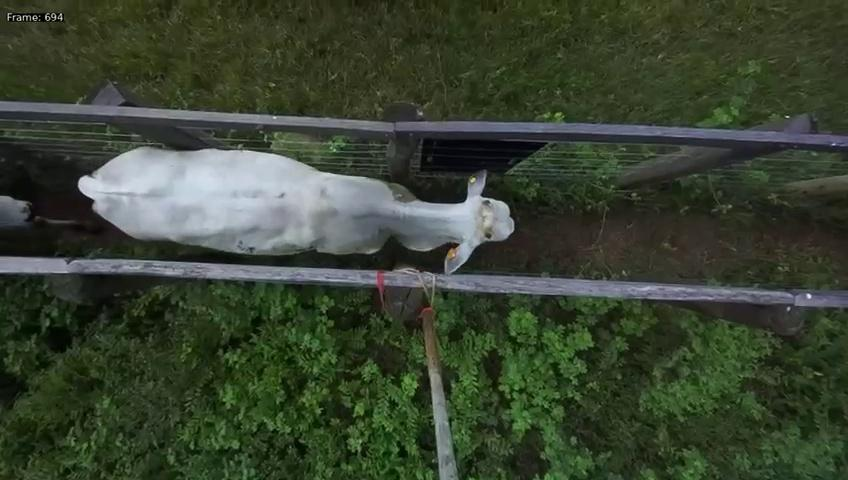cattle: (75, 139, 517, 274)
